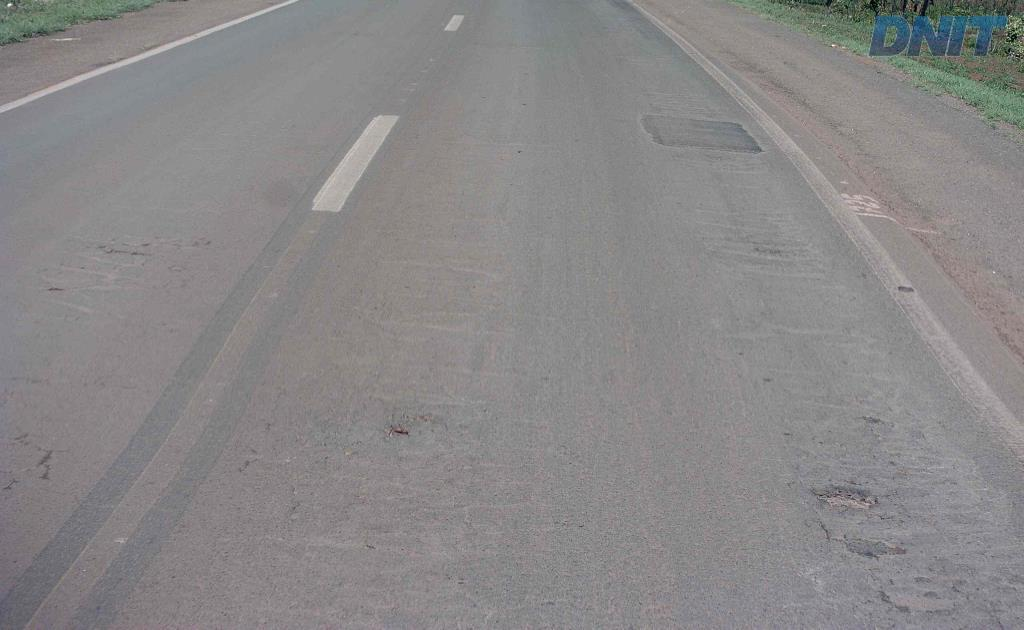pothole: (805, 476, 878, 513), (385, 421, 414, 441)
